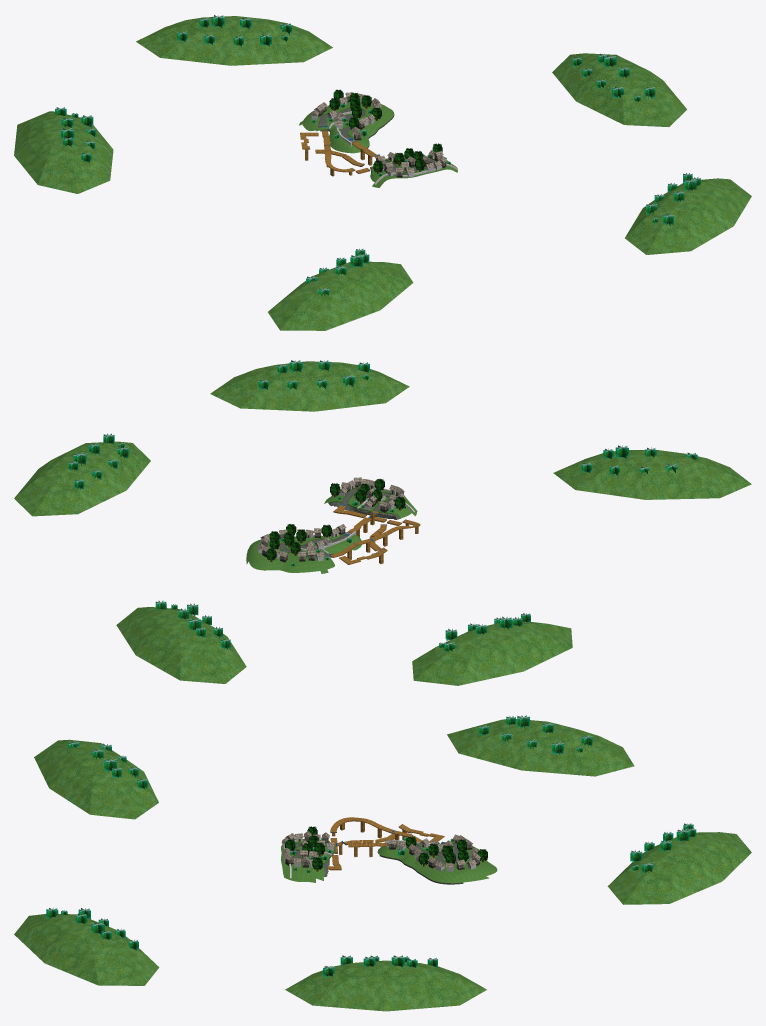
3 renders of one model, top to bottom at view 1: azimuth 30°, elevation 25°; view 2: azimuth 150°, elevation 25°; view 3: azimuth 270°, elevation 25°, orthographic. The views are drawn at different scales.
Parts seen in each view (by area): view 1: Wood.001, Plane, Wood.002, Wood.016, Wood.011; view 2: Wood.001, Plane, Wood.011, Wood.002, Wood.016; view 3: Wood.001, Plane, Wood.011, Wood.002, Wood.016.
Boxes of the visible parts, x1,y1,x2,y2 form: Wood.001: (14,16,751,330); Plane: (55,15,700,296); Wood.002: (329,89,442,172); Wood.016: (311,92,446,173); Wood.011: (300,126,405,176); Wood.001: (14,361,751,685); Plane: (68,360,697,652); Wood.011: (330,505,420,564); Wood.002: (266,478,405,560); Wood.016: (257,477,405,557); Wood.001: (14,719,751,1011); Plane: (46,715,696,977); Wood.011: (326,817,444,870); Wood.002: (285,826,487,869); Wood.016: (281,831,480,867).
Size of what is drawn, in the model's own units: 375330 by 19946 by 407393.
Materials: 18 (18 with a texture image).
